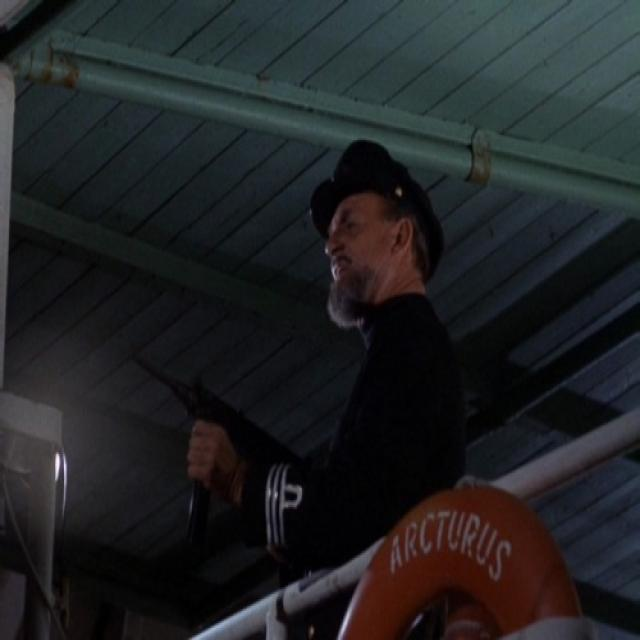rifle: (133, 350, 290, 538)
